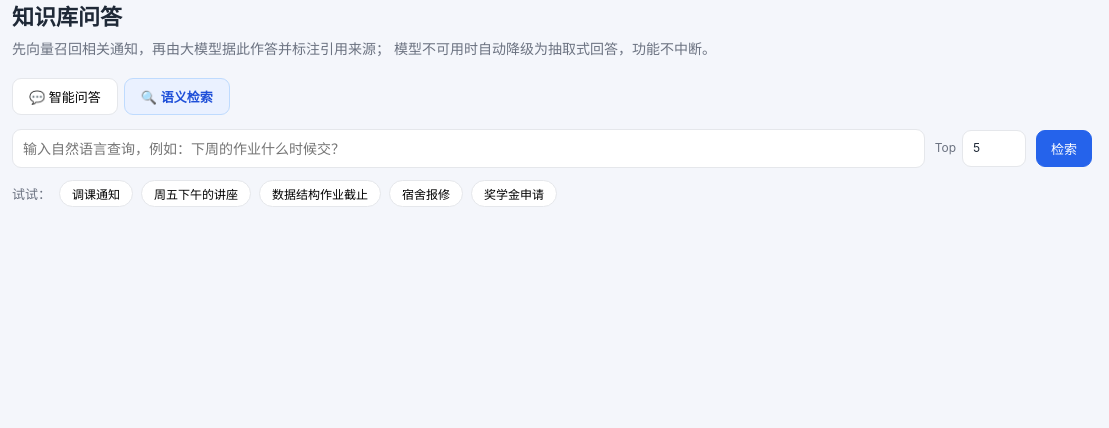
Search 组件 › 切换模式会清掉上一次结果（避免把检索结果当问答结果展示）
Type "工作坊报名什么时候截止" into the field at (468, 149), box x1=12 y1=129 x2=925 y2=168
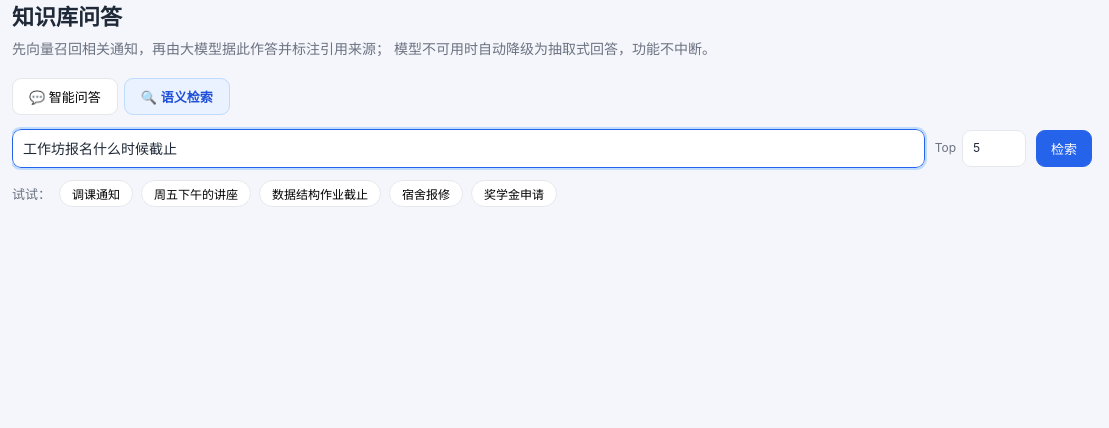
Click the button "检索" at (1064, 149), box x1=1036 y1=130 x2=1092 y2=167
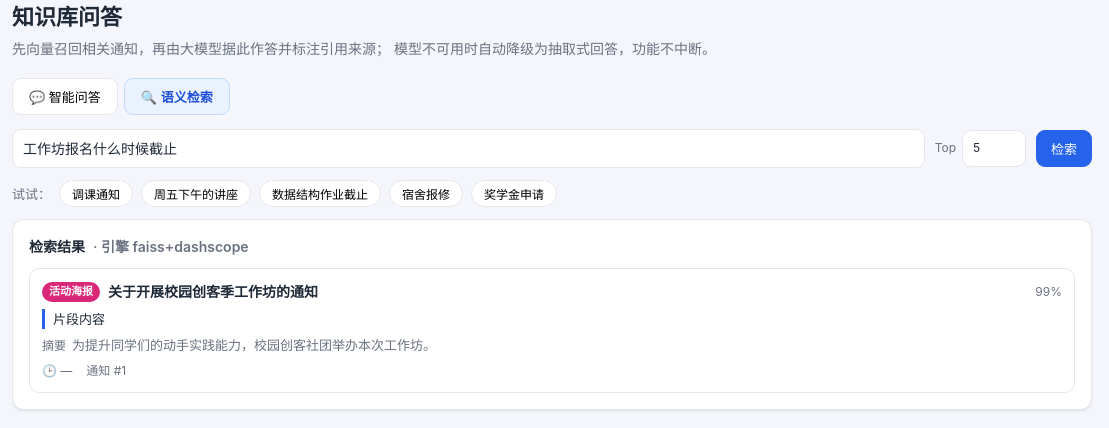
Check: the text "片段内容" is shown, box x1=42 y1=309 x2=1062 y2=329
Click the button "💬 智能问答" at (65, 96), box x1=12 y1=78 x2=118 y2=115
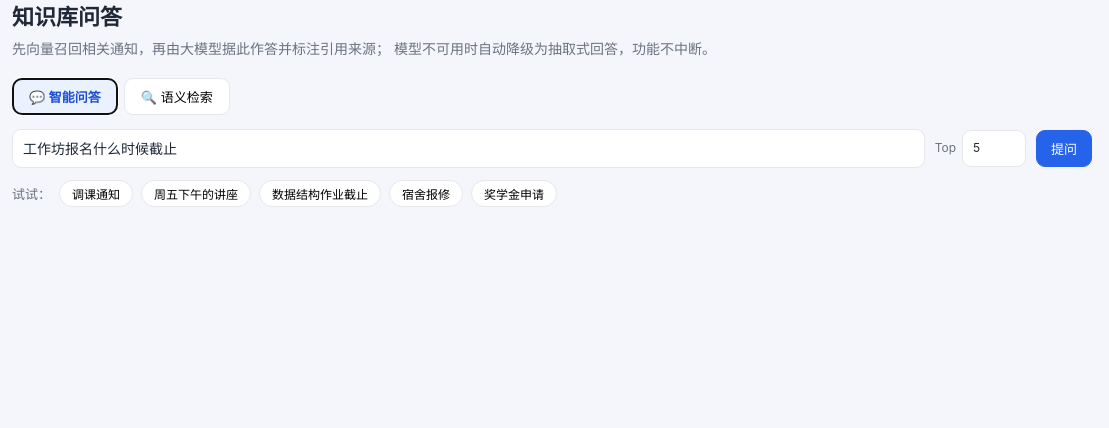
Check: the text "片段内容" is gone
